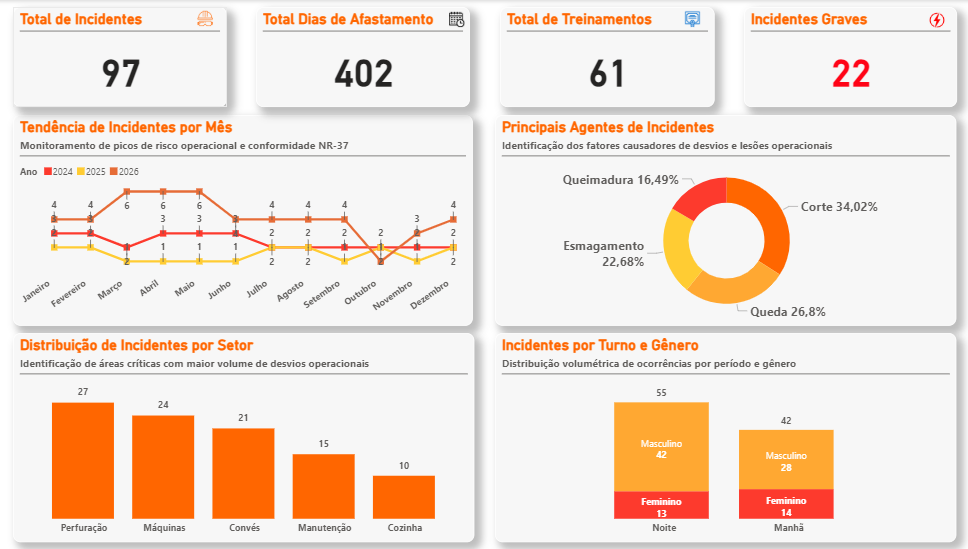

This screenshot's page, from the dashboard's own definition file:
{"tool":"powerbi","page":{"name":"Página 1","canvas":[1280,720],"ordinal":0},"visuals":[{"type":"lineChart","title":"Tendência de Incidentes por Mês","fields":{"Category":["Planilha3.Mês"],"Y":["CountNonNull(Planilha3.ID_Registro)"],"Series":["Planilha3.Ano"]},"box":[22.7,150.2,602.5,275.9],"z":0},{"type":"columnChart","title":"Distribuição de Incidentes por Setor","fields":{"Category":["Planilha3.Setor"],"Y":["CountNonNull(Planilha3.ID_Registro)"]},"box":[22.7,436.6,604.2,274.2],"z":1000},{"type":"card","title":"Total de Incidentes","fields":{"Values":["CountNonNull(Planilha3.ID_Registro)"]},"box":[22.3,9.2,280.1,130.9],"z":2000},{"type":"card","title":"Total Dias de Afastamento","fields":{"Values":["Sum(Planilha3.Dias de Afastamento)"]},"box":[340.8,9.2,280.1,130.9],"z":3000},{"type":"card","title":"Total de Treinamentos","fields":{"Values":["CountNonNull(Planilha3.Status Treinamento)"]},"box":[659.3,9.2,281.5,130.9],"z":4000},{"type":"card","title":"Incidentes Graves","fields":{"Values":["CountNonNull(Planilha3.ID_Registro)"]},"box":[979.2,9.2,278.8,130.9],"z":5000},{"type":"image","box":[244.8,8.6,57.6,30.2],"z":6000},{"type":"image","box":[584.6,10.1,36,30.2],"z":7000},{"type":"image","box":[1203.8,10.1,54.7,31.7],"z":8000},{"type":"image","box":[869.8,8.6,85,31.7],"z":9000},{"type":"donutChart","title":"Principais Agentes de Incidentes","fields":{"Y":["CountNonNull(Planilha3.ID_Registro)"],"Category":["Planilha3.Agente da Lesão"]},"box":[653.1,150.2,604.2,275.9],"z":10000},{"type":"columnChart","title":"Incidentes por Turno e Gênero","fields":{"Category":["Planilha3.Turno"],"Y":["CountNonNull(Planilha3.ID_Registro)"],"Series":["Planilha3.Gênero"]},"box":[653.1,436.6,604.2,274.2],"z":11000}]}

Visuals, with their boxes in screenshot pixels (x1, y1, x2, y2), scaled from the page's 1280x720 canvas onto the 968x549 screenshot:
"Tendência de Incidentes por Mês" lineChart: 17/115/473/325
"Distribuição de Incidentes por Setor" columnChart: 17/333/474/542
"Total de Incidentes" card: 17/7/229/107
"Total Dias de Afastamento" card: 258/7/470/107
"Total de Treinamentos" card: 499/7/711/107
"Incidentes Graves" card: 741/7/951/107
image: 185/7/229/30
image: 442/8/469/31
image: 910/8/952/32
image: 658/7/722/31
"Principais Agentes de Incidentes" donutChart: 494/115/951/325
"Incidentes por Turno e Gênero" columnChart: 494/333/951/542
